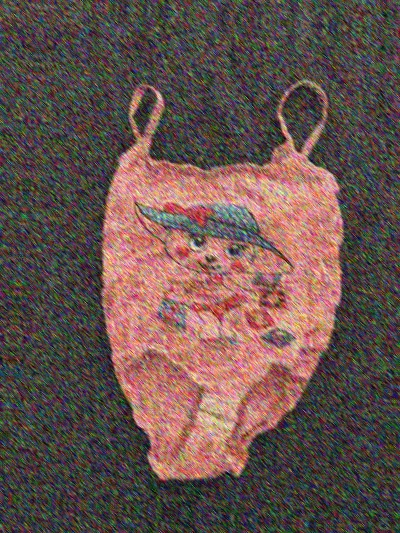Body: (47, 39, 369, 496), (4, 533, 326, 533)
